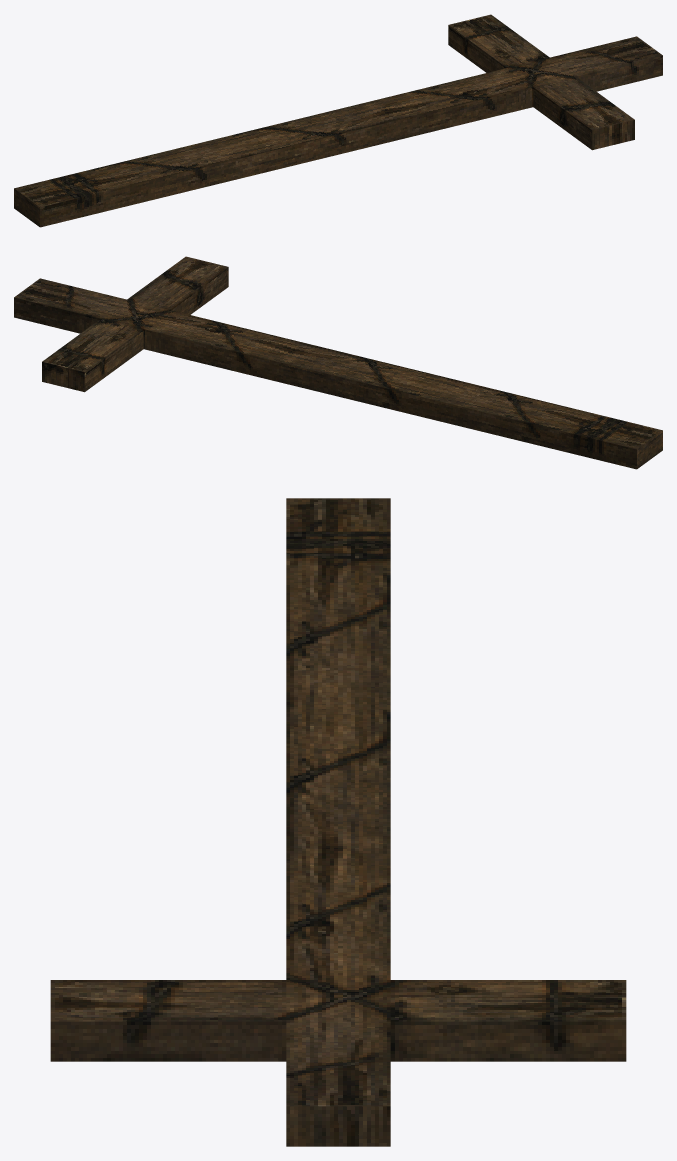
Rendered from melee_cross_mx_1.glb.
3 views of the same model, one above another, from view 1: azimuth 30°, elevation 25°; view 2: azimuth 150°, elevation 25°; view 3: azimuth 270°, elevation 25° (orthographic). The views are drawn at different scales.
Parts seen in each view (by area): view 1: melee_cross_mx_1; view 2: melee_cross_mx_1; view 3: melee_cross_mx_1.
Part boxes in pixels (x1,y1,x2,y2): melee_cross_mx_1: (14,14,662,227); melee_cross_mx_1: (14,256,662,469); melee_cross_mx_1: (50,498,626,1146).
Size of the model in its own units: 0.91 by 0.028 by 0.364.
1 material, 1 textured.
